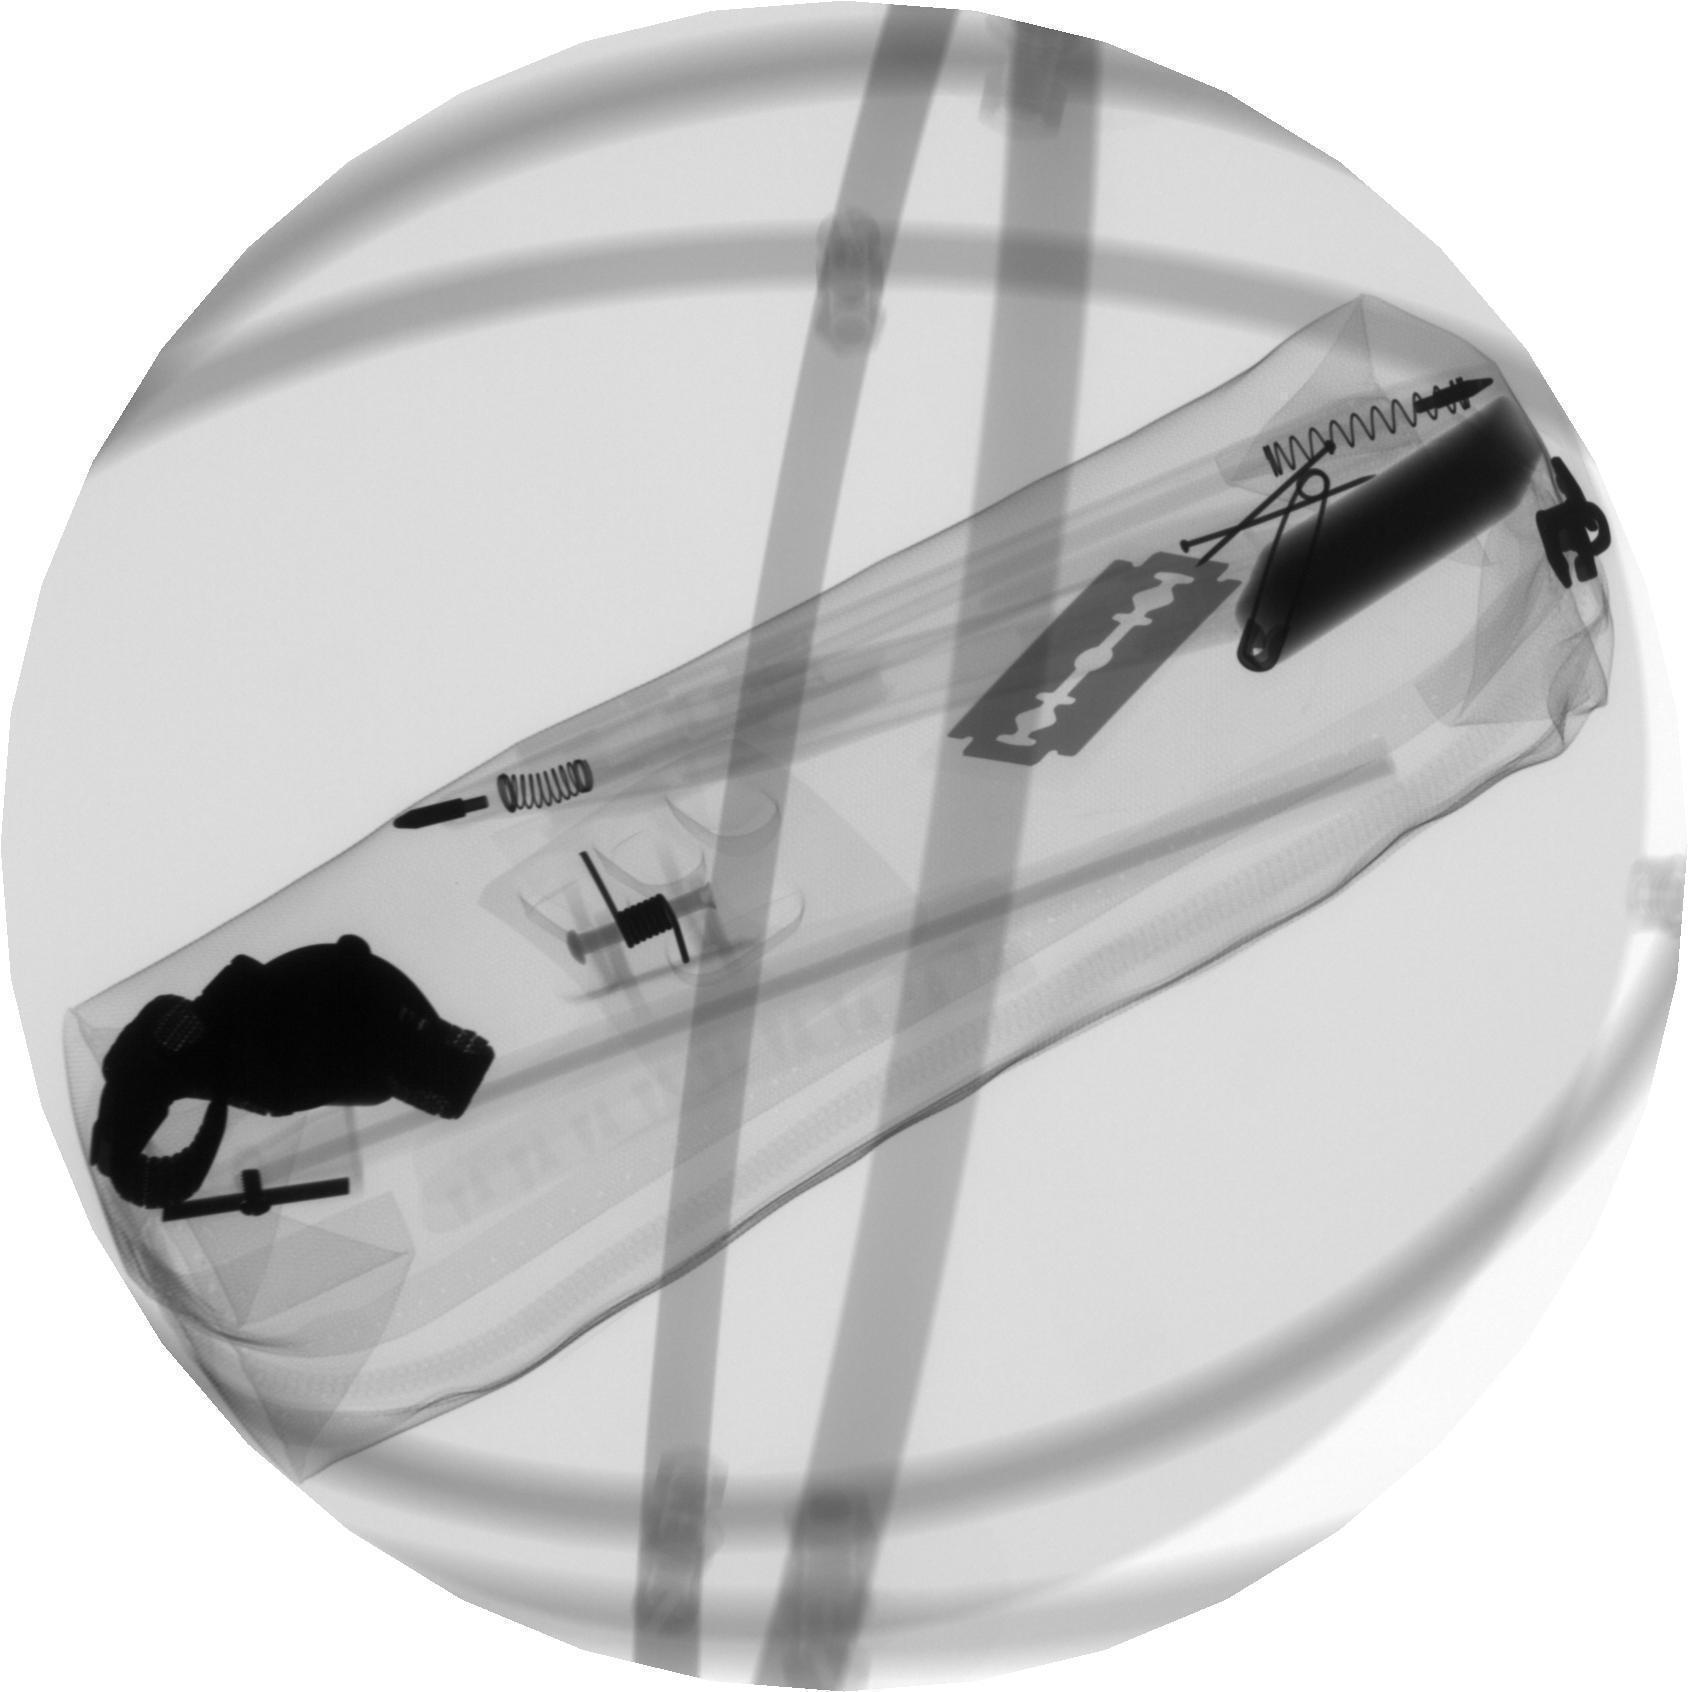RazorBlade: (931, 541, 1251, 783)
